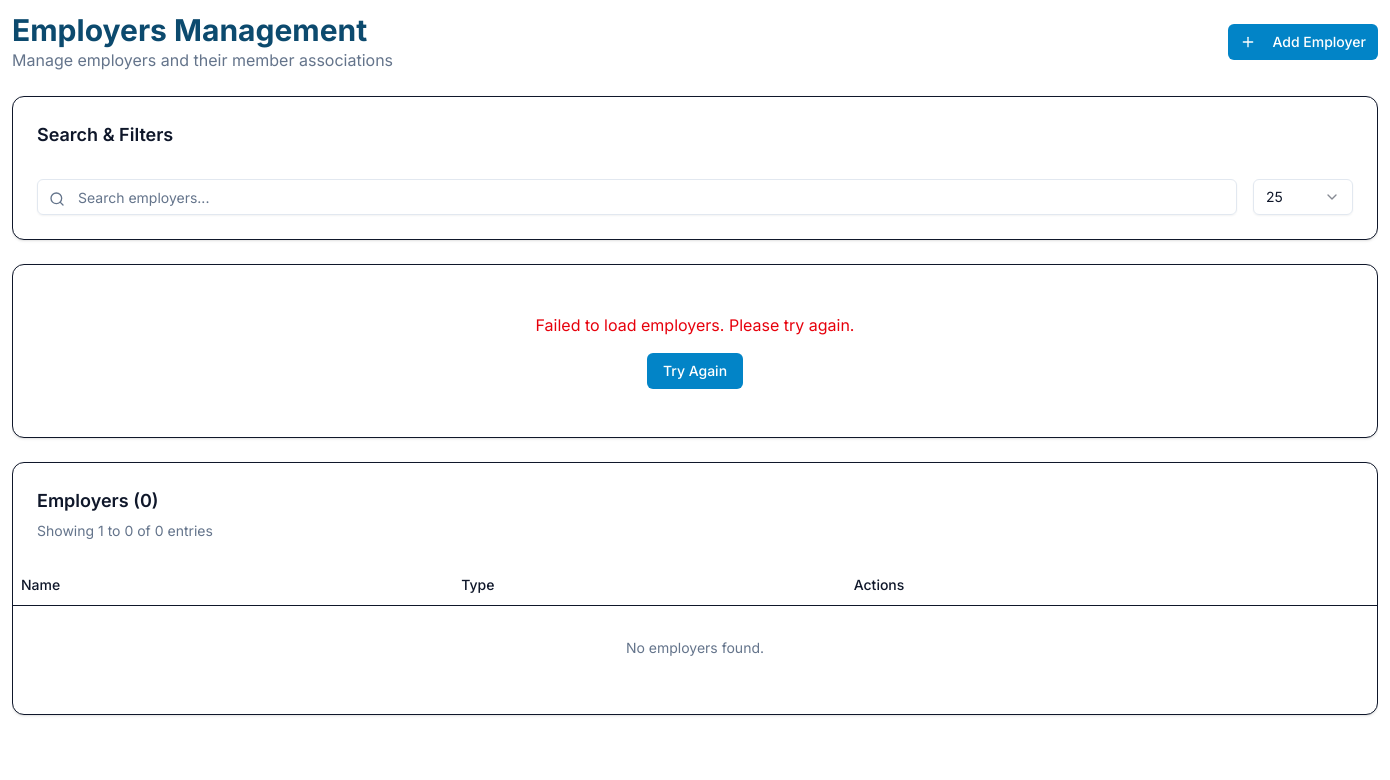
Test: EmployersPage › Data Loading › should retry fetching data when Try Again is clicked
Expected: the text "Failed to load employers. Please try again." is shown, [536,315,854,335]
Step 1. Click the button "Try Again" → (695, 371), box [647,353,743,389]
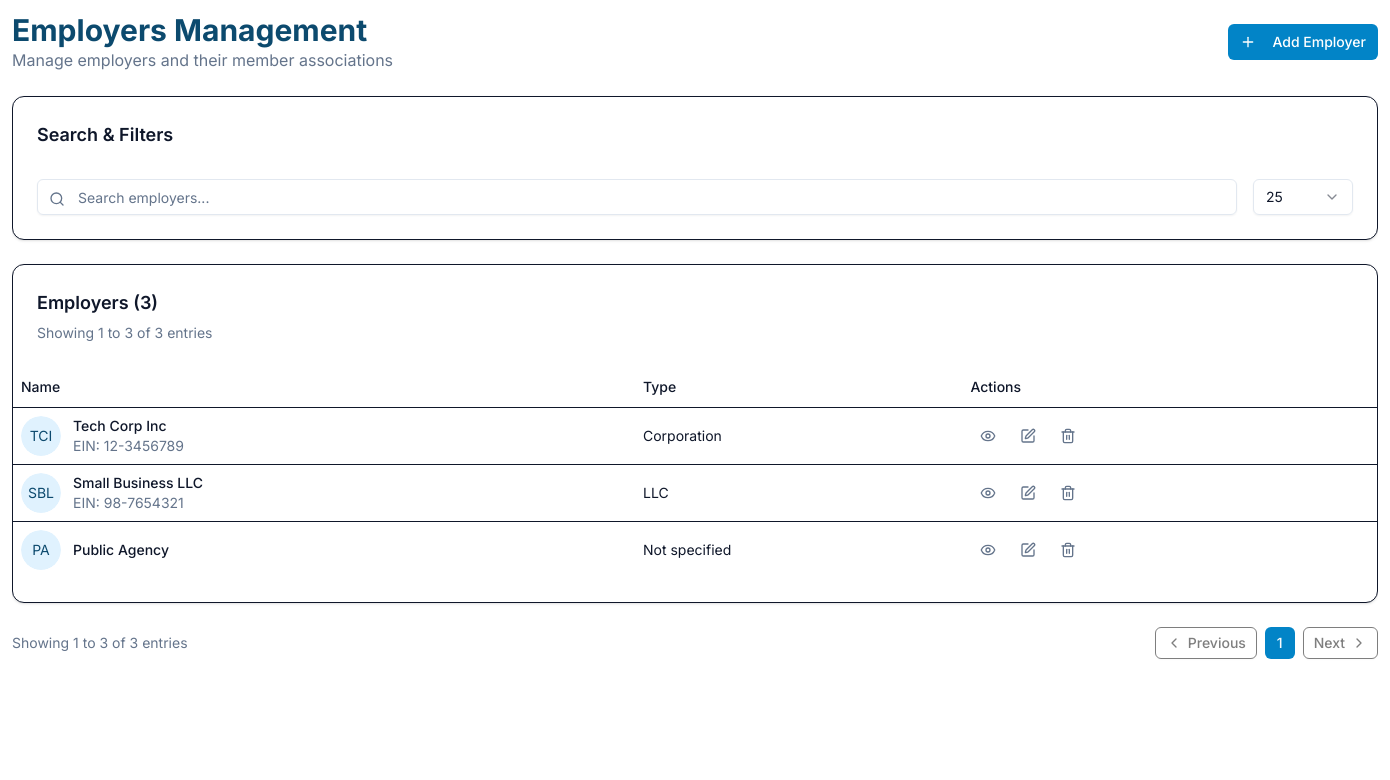
Expected: the text "Tech Corp Inc" is shown, [73,416,166,434]
